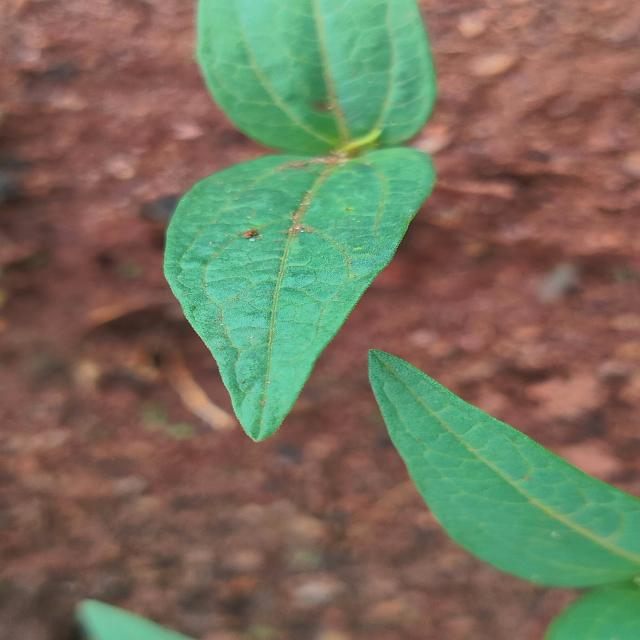Black gram_healthy: (162, 148, 415, 443), (369, 354, 640, 596)
